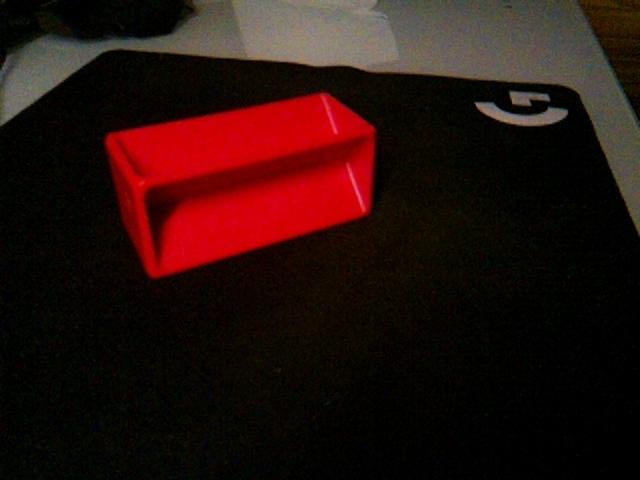red: (103, 90, 378, 280)
